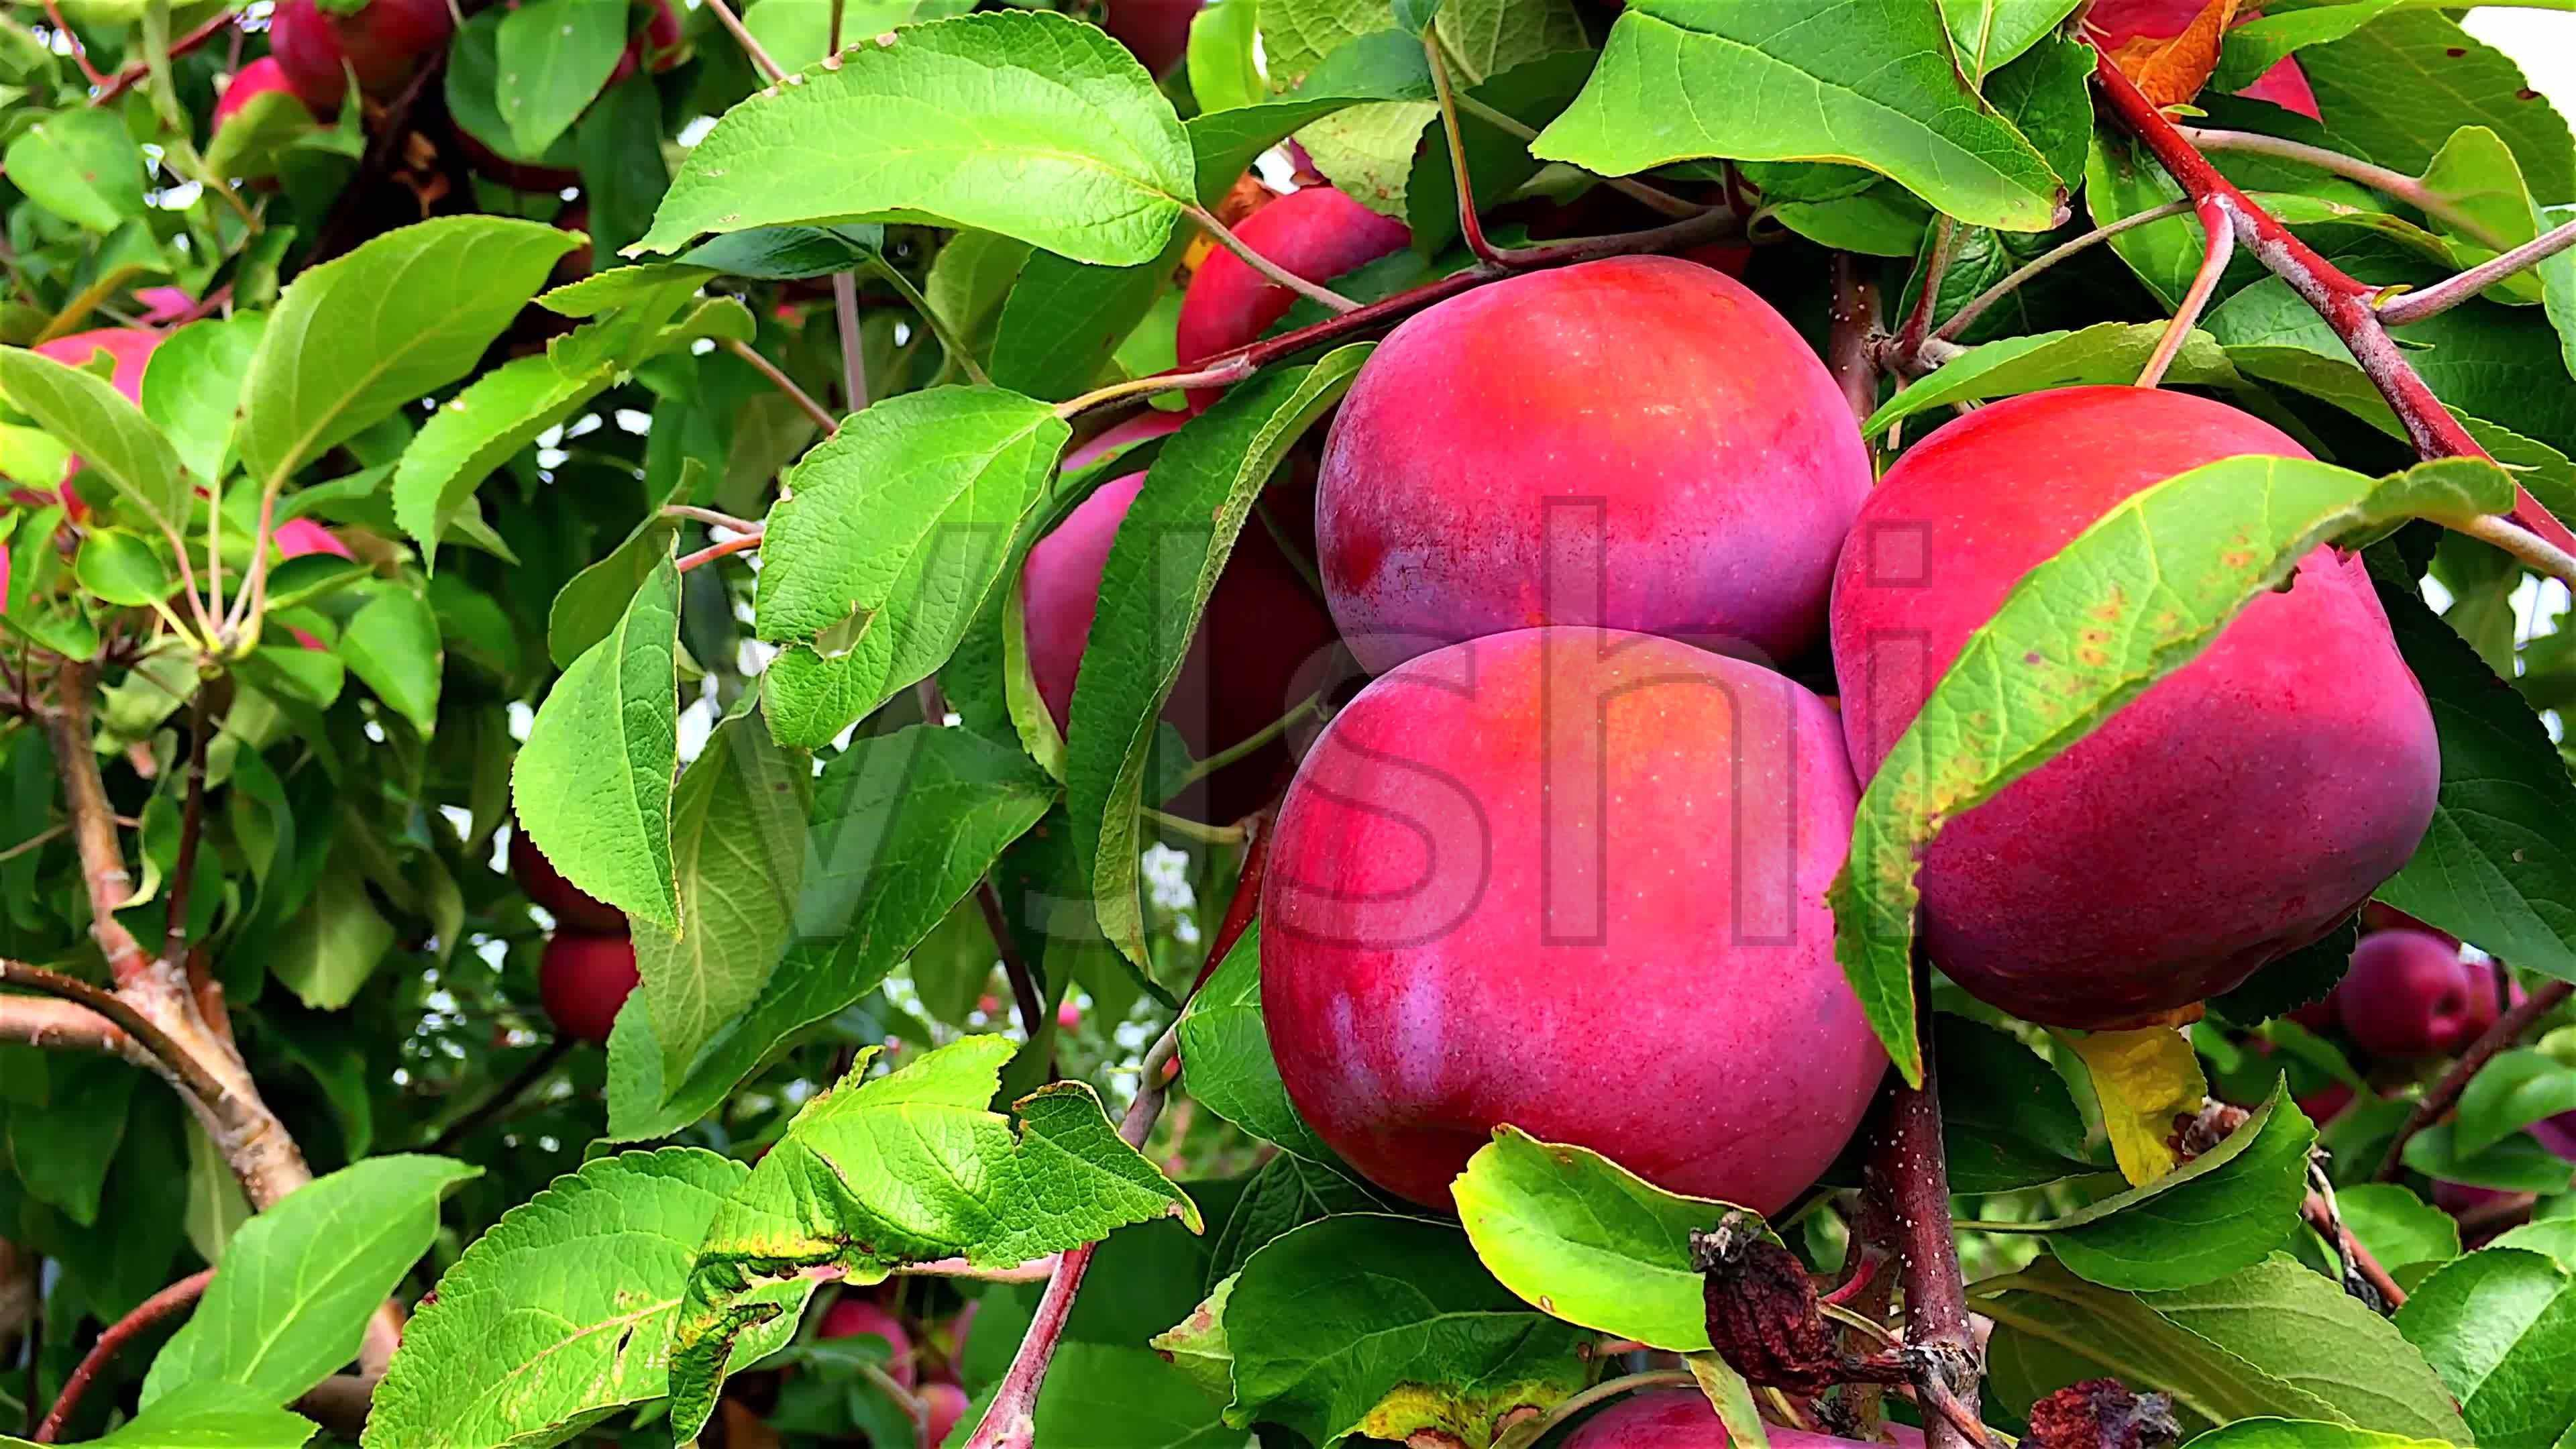apple: (1819, 386, 2438, 1024), (1256, 625, 1895, 1194), (1315, 253, 1884, 679), (1178, 186, 1414, 380), (2335, 931, 2507, 1069), (538, 929, 646, 1049)
